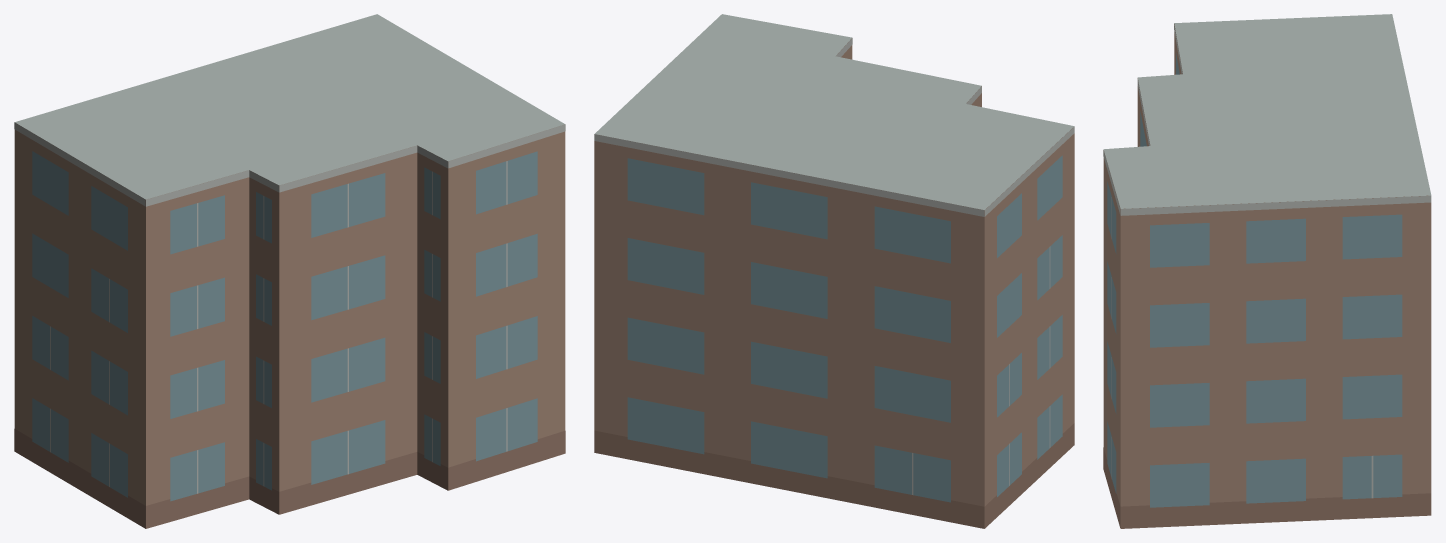
File: survey-upis-32537416.glb
3 views of the same model, side by side, from view 1: azimuth 30°, elevation 25°; view 2: azimuth 150°, elevation 25°; view 3: azimuth 270°, elevation 25° (orthographic). The views are drawn at different scales.
Visible parts, largest first — view 1: survey-upis-32537416.tmp; view 2: survey-upis-32537416.tmp; view 3: survey-upis-32537416.tmp.
Boxes of the visible parts, x1=… form: survey-upis-32537416.tmp: x1=14, y1=14, x2=565, y2=528; survey-upis-32537416.tmp: x1=594, y1=14, x2=1074, y2=528; survey-upis-32537416.tmp: x1=1103, y1=14, x2=1431, y2=528.
Bounding box in the file's own units: 14.71 × 11.25 × 10.46.
